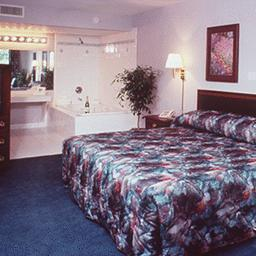Cama: (68, 110, 251, 245)
